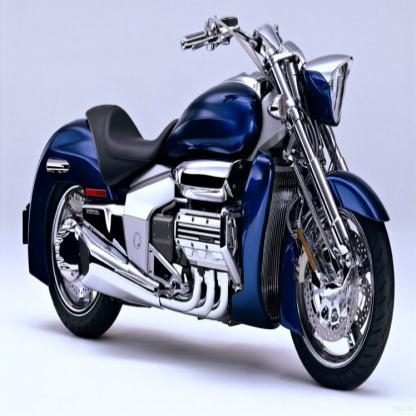Motorcycle: (21, 0, 398, 395)
